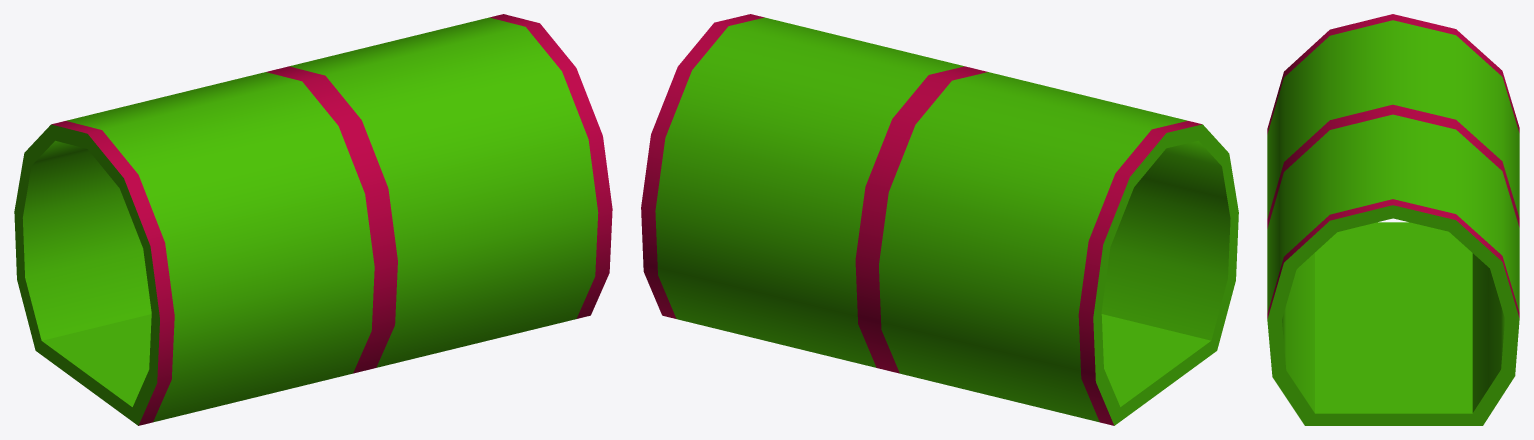
Rendered from arc_sci_base-Domehouse-Tube.fbx.
The picture shows the model from 3 angles, left to right: view 1: azimuth 30°, elevation 25°; view 2: azimuth 150°, elevation 25°; view 3: azimuth 270°, elevation 25°; orthographic projection. The views are drawn at different scales.
Visible parts, largest first — view 1: arc_sci_base-Domehouse-Tube; view 2: arc_sci_base-Domehouse-Tube; view 3: arc_sci_base-Domehouse-Tube.
Part boxes in pixels (bbox=[...]): arc_sci_base-Domehouse-Tube: bbox=[14, 14, 612, 425]; arc_sci_base-Domehouse-Tube: bbox=[641, 14, 1238, 425]; arc_sci_base-Domehouse-Tube: bbox=[1267, 14, 1519, 425].
Size of the model in its own units: 4.85 by 2.61 by 2.7.
